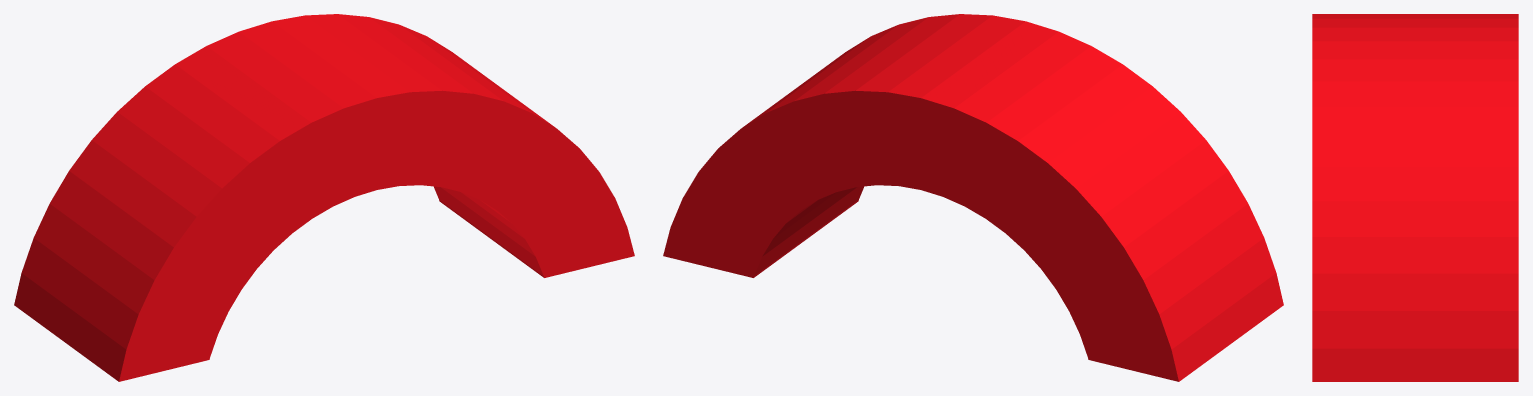
The model's file is ArchDead.fbx.
The picture shows the model from 3 angles, left to right: view 1: azimuth 30°, elevation 25°; view 2: azimuth 150°, elevation 25°; view 3: azimuth 270°, elevation 25°; orthographic projection.
Parts seen in each view (by area): view 1: ArchDead; view 2: ArchDead; view 3: ArchDead.
Boxes of the visible parts, x1=… form: ArchDead: x1=14, y1=14, x2=634, y2=381; ArchDead: x1=663, y1=14, x2=1283, y2=381; ArchDead: x1=1312, y1=14, x2=1518, y2=381.
Bounding box in the file's own units: 543 × 222 × 191.
